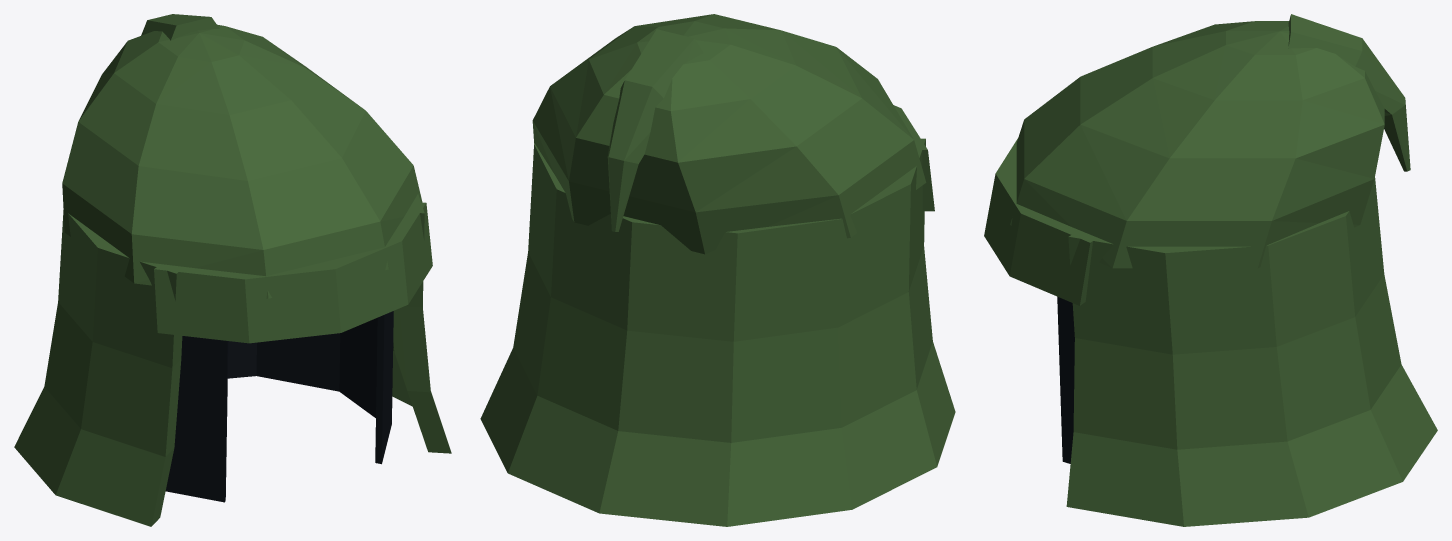
File: Hat_Hood.fbx
3 renders of one model, left to right at view 1: azimuth 30°, elevation 25°; view 2: azimuth 150°, elevation 25°; view 3: azimuth 270°, elevation 25°, orthographic. The views are drawn at different scales.
Visible parts, largest first — view 1: Hood, HoodShade; view 2: Hood; view 3: Hood, HoodShade.
Boxes of the visible parts, <box> form: Hood: <box>14,14,451,526</box>; HoodShade: <box>165,311,393,502</box>; Hood: <box>480,14,955,526</box>; Hood: <box>984,14,1437,526</box>; HoodShade: <box>1057,296,1074,463</box>.
Bounding box in the file's own units: 2.39 × 2.35 × 2.37.
